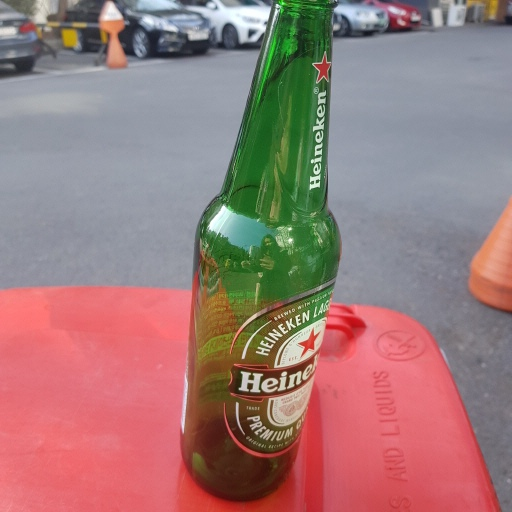Glass_1: (182, 2, 341, 504)
